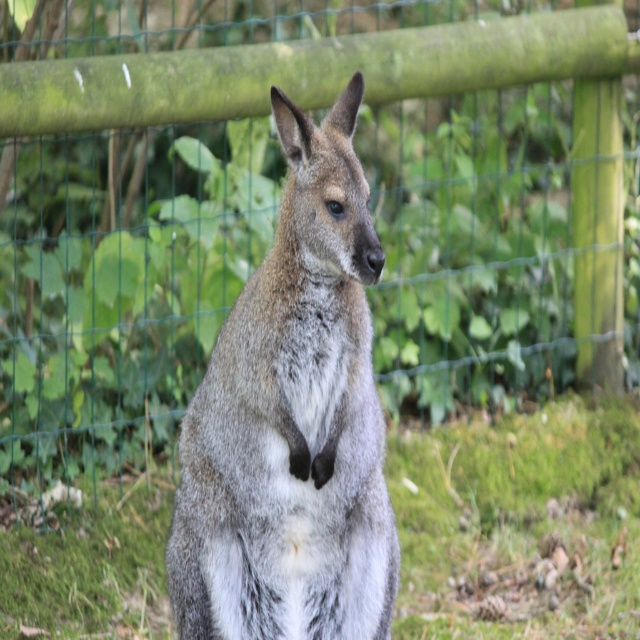Kangaroo: (164, 70, 400, 639)
